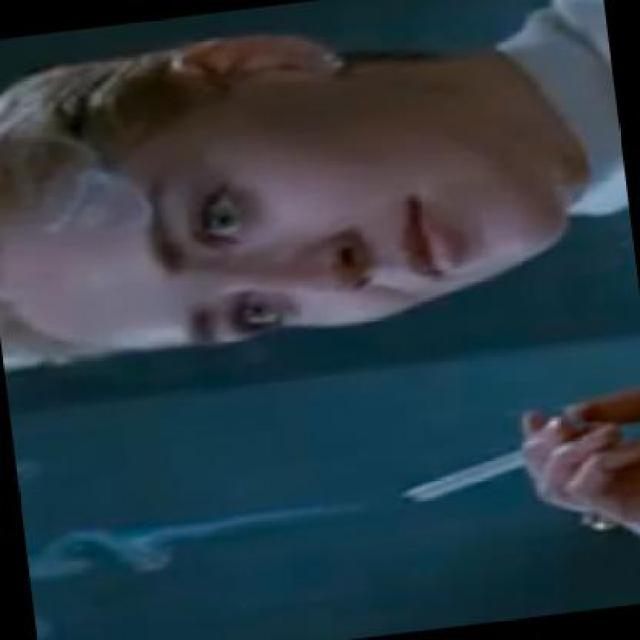cigarette: (390, 412, 613, 506)
